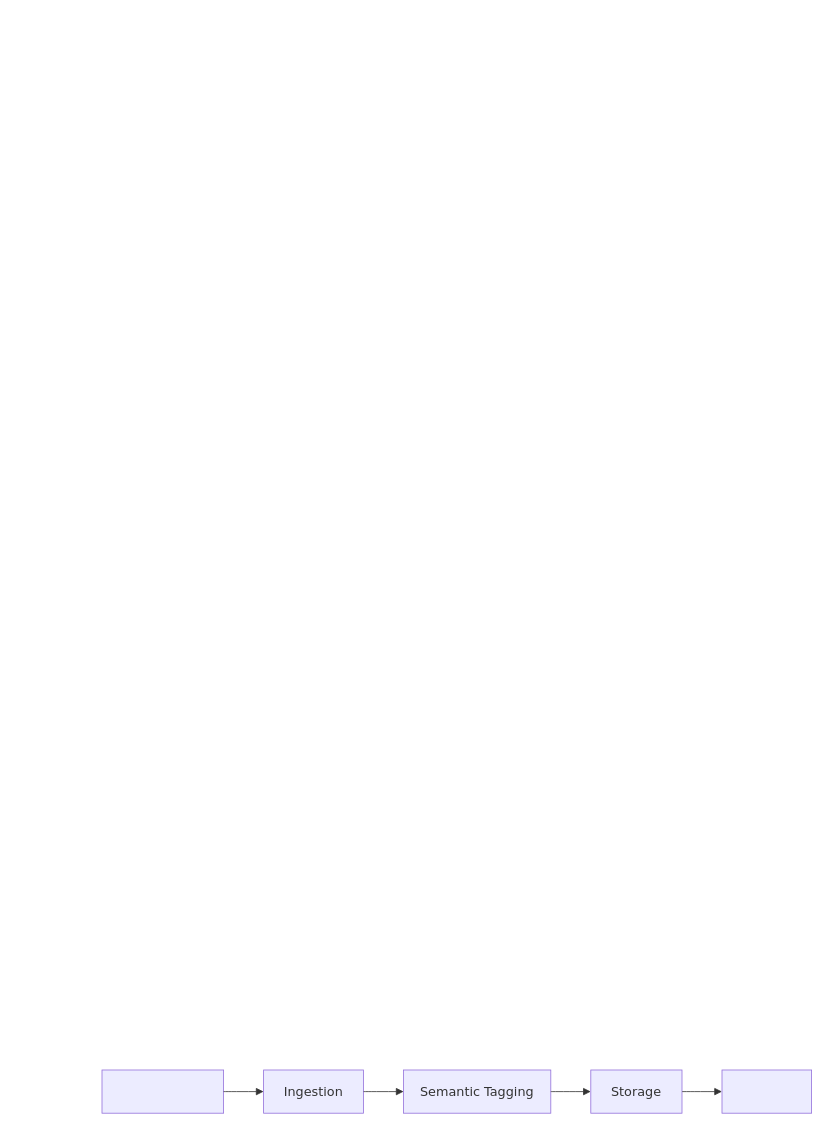
Image size: 826x1127. Some labels were removed from this diagram. The shapes that lost their labels are listed below. From the top down, each one's centre as x and y in pixels, then its label:
point 162,1091: Data Sources
point 766,1091: Serving
